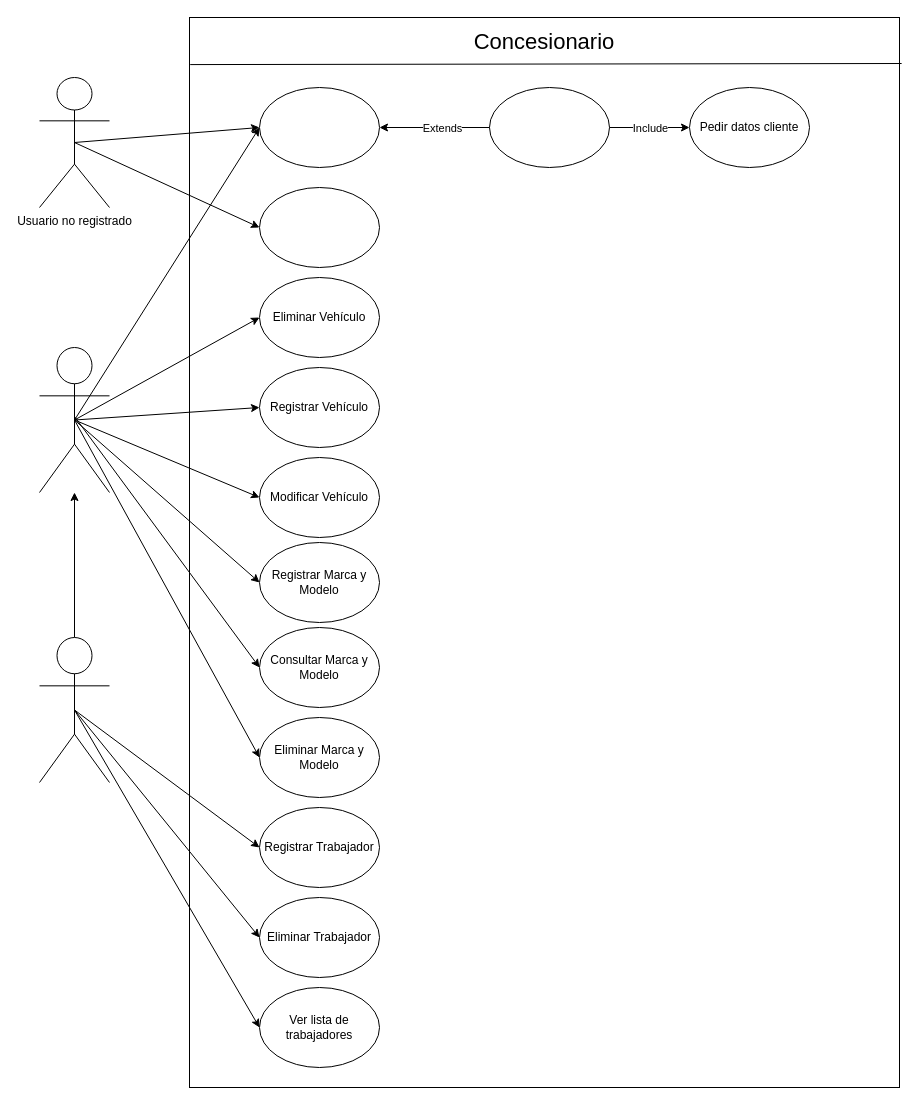
This 921x1105 diagram has some shape labels left out. Each missing label, with the centre of its shape:
"Admin" belongs at [74,709].
"Comprar vehículo" belongs at [549,127].
"Iniciar sesión como trabajador" belongs at [319,227].
"Trabajador" belongs at [74,419].
"Ver catálogo" belongs at [319,127].
